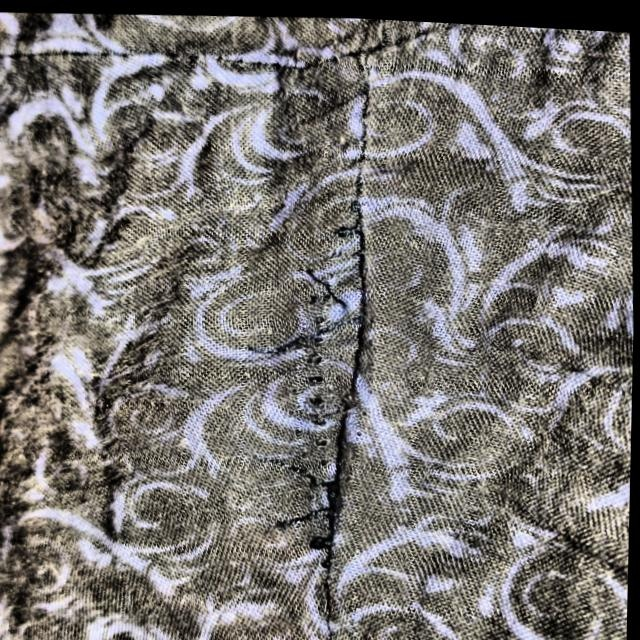seam: (205, 166, 489, 603)
